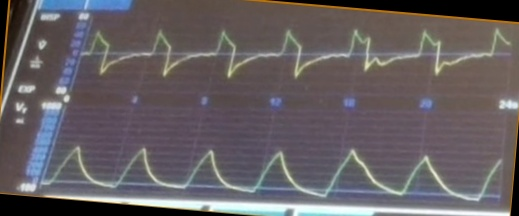Premature_cycling Flow: (88, 25, 511, 94)
Premature_cycling Volume: (51, 140, 501, 200)
